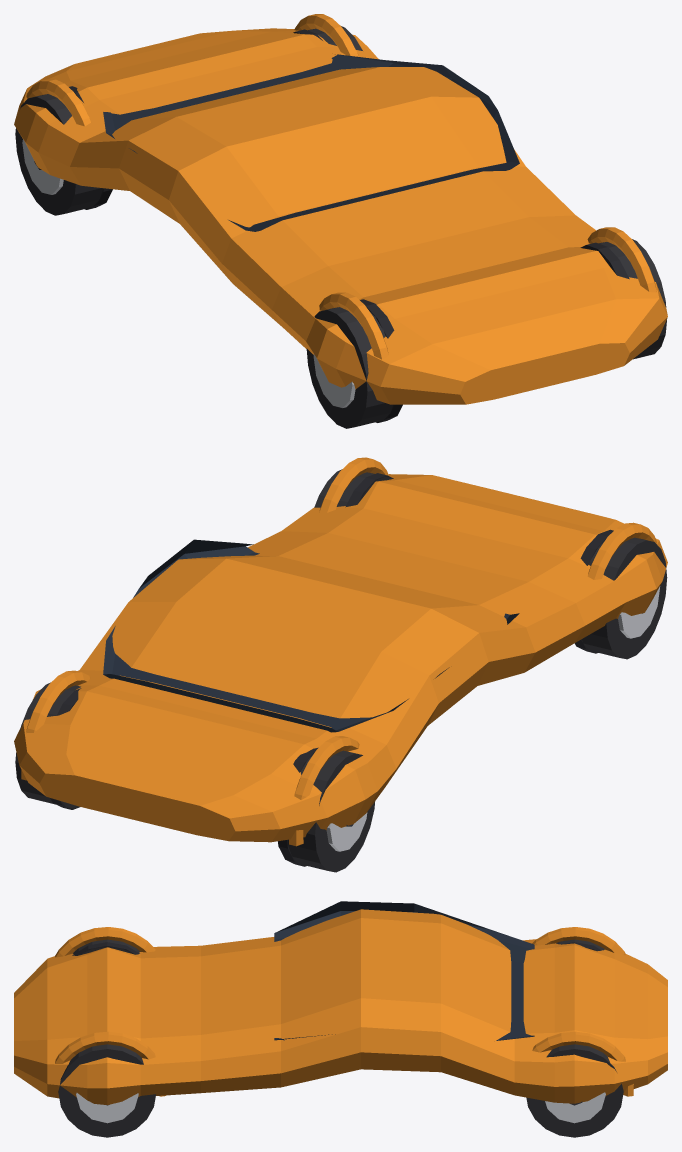
File: racer.glb
3 renders of one model, top to bottom at view 1: azimuth 30°, elevation 25°; view 2: azimuth 150°, elevation 25°; view 3: azimuth 270°, elevation 25°, orthographic. The views are drawn at different scales.
Visible parts, largest first — view 1: body, glass_canopy, wheel_front_tyre.001, wheel_rear_tyre.001, body_arch.001, body_arch, wheel_front_tyre, body_arch.003, body_arch.002, wheel_front_rim.001, wheel_rear_rim.001, wheel_front_well.001; view 2: body, glass_canopy, wheel_front_tyre.001, wheel_rear_tyre.001, body_arch.003, body_arch.001, body_arch.002, body_arch, wheel_rear_tyre, wheel_front_rim.001, wheel_rear_rim.001, wheel_front_tyre; view 3: body, glass_canopy, wheel_front_tyre, wheel_rear_tyre, body_arch, body_arch.001, body_arch.002, body_arch.003, wheel_front_rim, wheel_rear_rim.
Part boxes in pixels (bbox=[...]): body: bbox=[14, 28, 667, 404]; glass_canopy: bbox=[103, 54, 519, 231]; wheel_front_tyre.001: bbox=[306, 307, 392, 428]; wheel_rear_tyre.001: bbox=[15, 94, 103, 215]; body_arch.001: bbox=[319, 292, 388, 359]; body_arch: bbox=[587, 227, 656, 292]; wheel_front_tyre: bbox=[580, 239, 666, 359]; body_arch.003: bbox=[26, 79, 91, 126]; body_arch.002: bbox=[294, 14, 358, 56]; wheel_front_rim.001: bbox=[313, 354, 355, 407]; wheel_rear_rim.001: bbox=[22, 139, 63, 194]; wheel_front_well.001: bbox=[360, 299, 402, 422]; body: bbox=[14, 474, 667, 842]; glass_canopy: bbox=[103, 539, 519, 732]; wheel_front_tyre.001: bbox=[581, 537, 667, 659]; wheel_rear_tyre.001: bbox=[287, 750, 374, 872]; body_arch.003: bbox=[289, 736, 359, 846]; body_arch.001: bbox=[587, 522, 656, 579]; body_arch.002: bbox=[21, 670, 90, 780]; body_arch: bbox=[319, 457, 388, 512]; wheel_rear_tyre: bbox=[15, 682, 80, 808]; wheel_front_rim.001: bbox=[618, 586, 660, 638]; wheel_rear_rim.001: bbox=[326, 812, 367, 851]; wheel_front_tyre: bbox=[314, 469, 393, 507]; body: bbox=[14, 909, 667, 1105]; glass_canopy: bbox=[274, 901, 534, 1040]; wheel_front_tyre: bbox=[58, 1044, 155, 1137]; wheel_rear_tyre: bbox=[526, 1044, 623, 1137]; body_arch: bbox=[55, 1031, 166, 1096]; body_arch.001: bbox=[55, 927, 155, 957]; body_arch.002: bbox=[532, 1031, 633, 1096]; body_arch.003: bbox=[532, 927, 625, 955]; wheel_front_rim: bbox=[76, 1093, 138, 1123]; wheel_rear_rim: bbox=[545, 1092, 605, 1123].
Size of the model in its own units: 2.12 by 0.9466 by 4.41.
